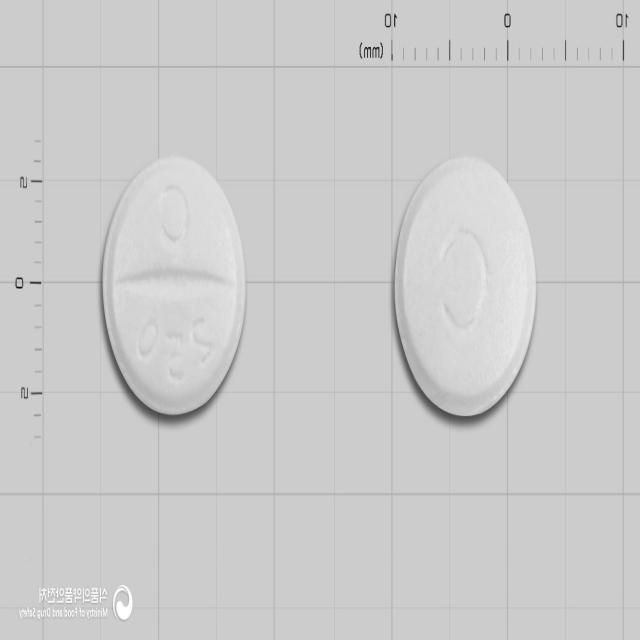Amocla: (392, 154, 536, 419), (101, 155, 244, 417)
